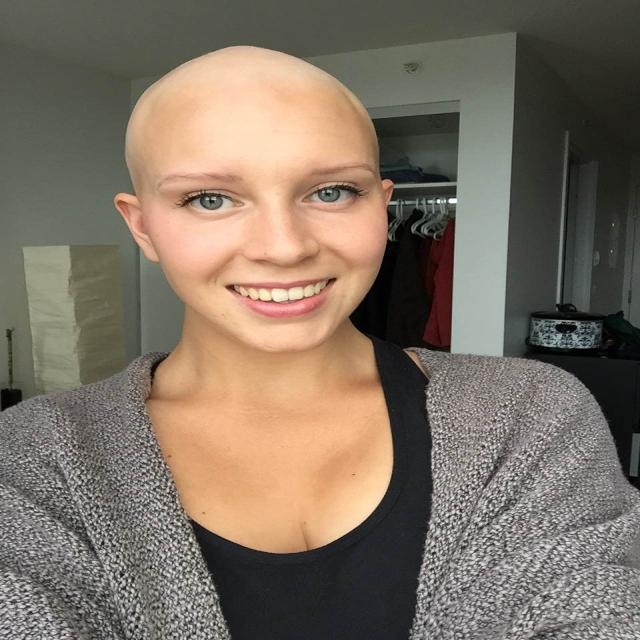no_helmet: (77, 31, 432, 191)
